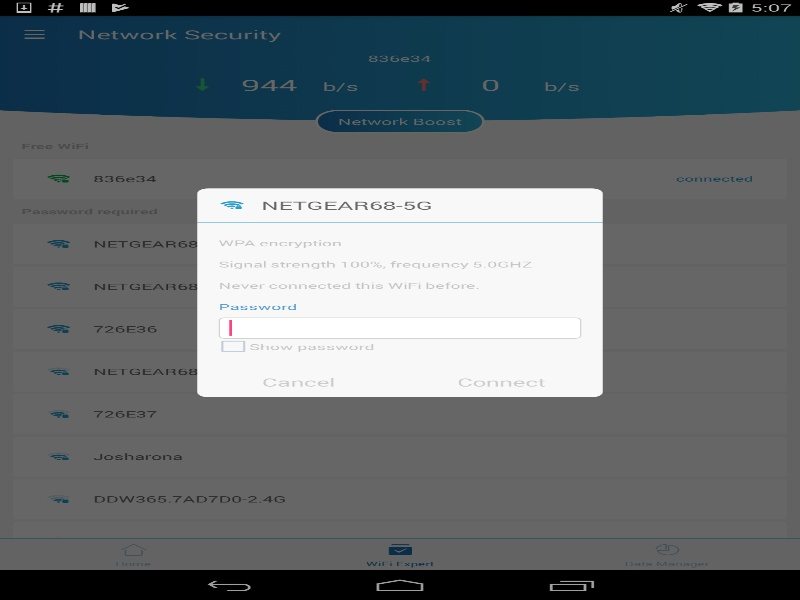Input: (218, 317, 581, 338)
